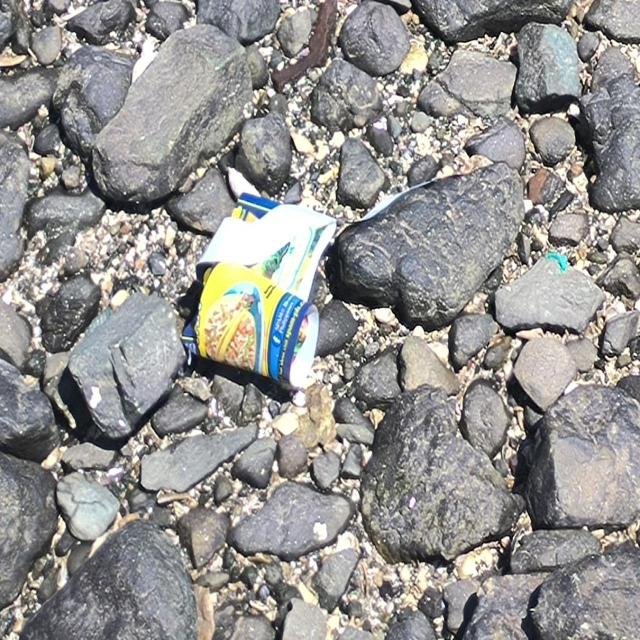plastic_waste: (180, 192, 340, 394)
